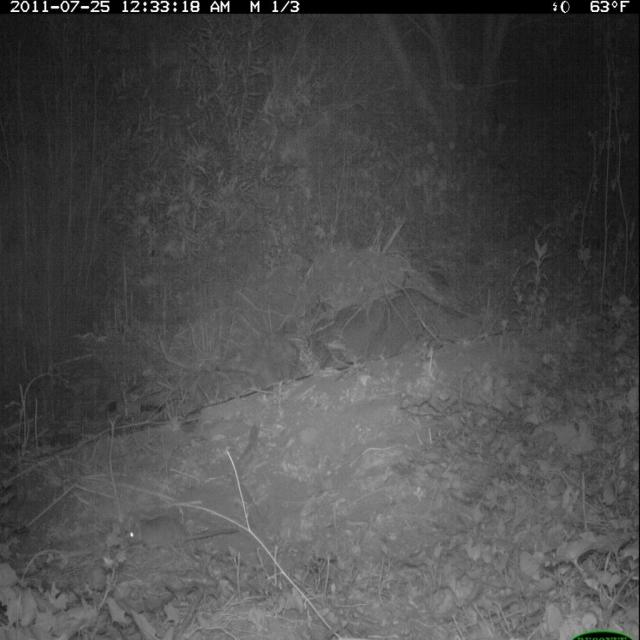rodent: (126, 514, 239, 564)
